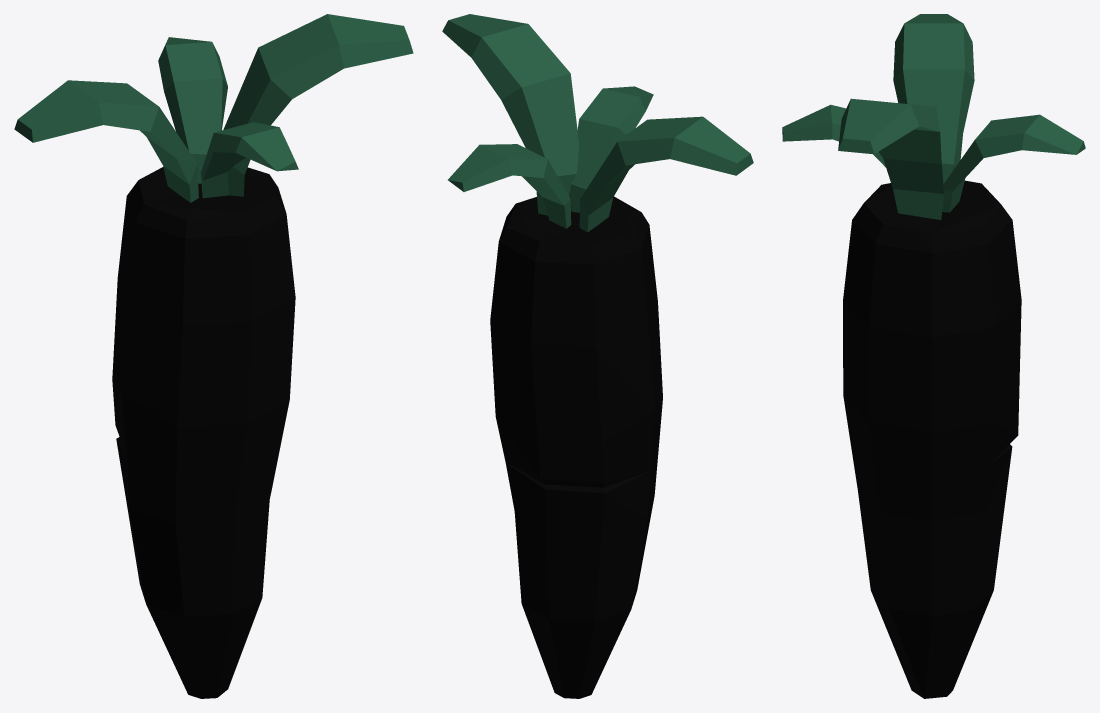
File: Caroot_L.fbx
3 views of the same model, side by side, from view 1: azimuth 30°, elevation 25°; view 2: azimuth 150°, elevation 25°; view 3: azimuth 270°, elevation 25° (orthographic). The views are drawn at different scales.
Visible parts, largest first — view 1: Caroot_L; view 2: Caroot_L; view 3: Caroot_L.
Part boxes in pixels (x1=…): Caroot_L: x1=14, y1=14, x2=413, y2=698; Caroot_L: x1=442, y1=14, x2=753, y2=698; Caroot_L: x1=782, y1=14, x2=1085, y2=698.
Size of the model in its own units: 34.53 by 61.67 by 26.59.
